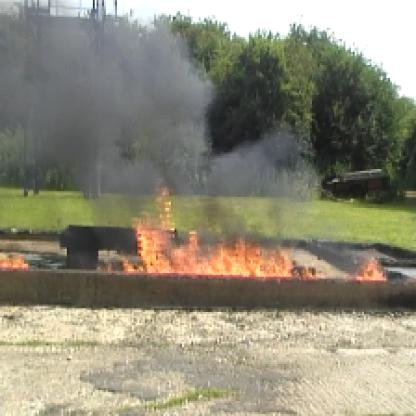Fire: (124, 204, 316, 280), (351, 253, 396, 284), (2, 247, 31, 269)
Smoke: (2, 2, 206, 184)
